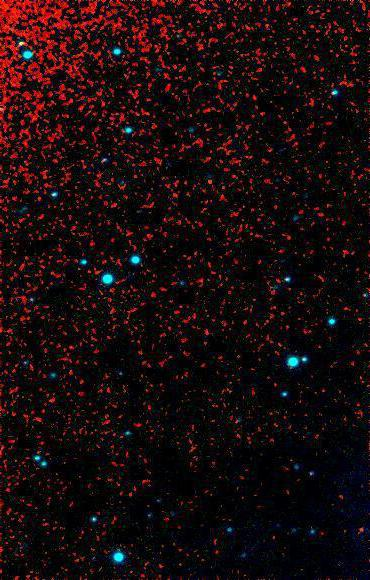star: (196, 167, 226, 197)
